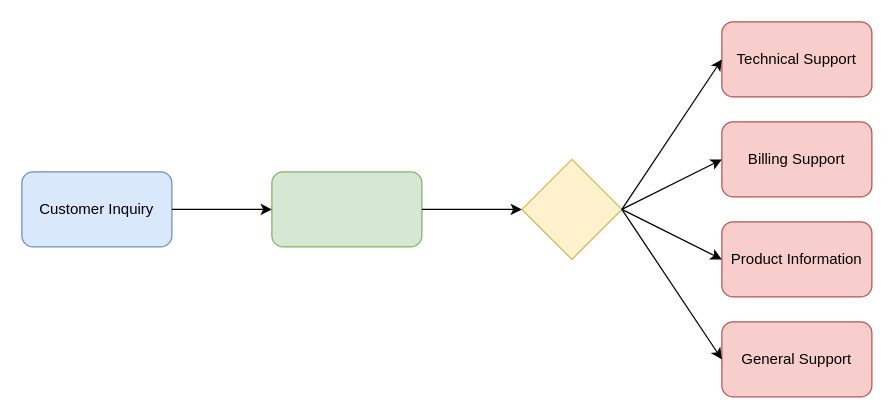
Some shapes in this 894 by 419 pixel diagram are drawn without their labels. Here are the shapes that lost their labels. From the top down, the box of each, then its label:
(271, 171, 422, 247): Classifier
(521, 158, 622, 259): Router
